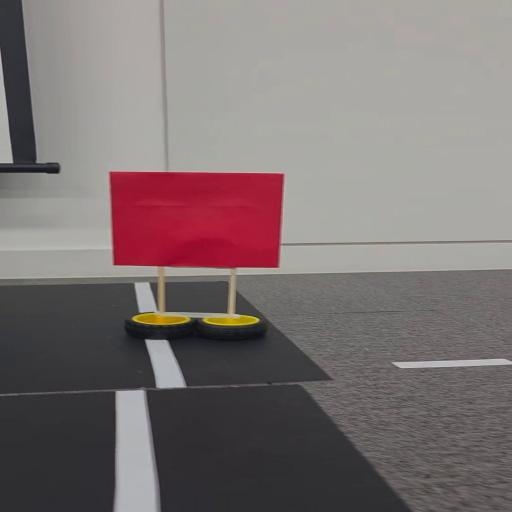Sign_A: (98, 164, 298, 346)
